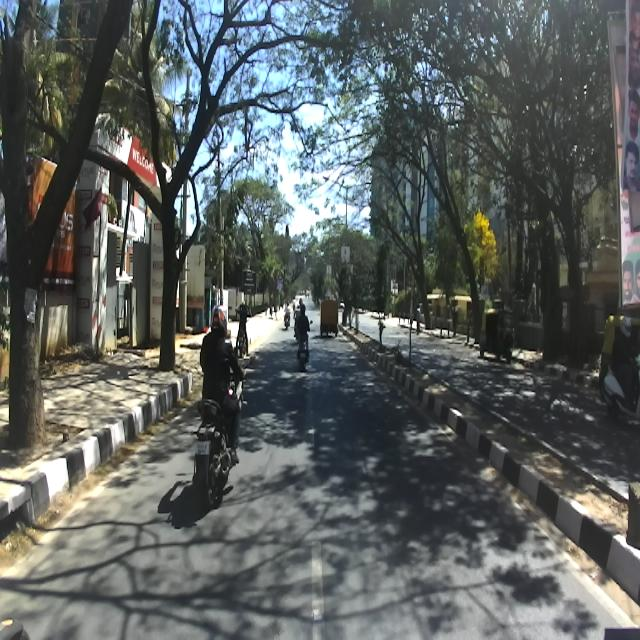motorcycle ahead at: (186, 394, 246, 513)
tree ahead at: (127, 0, 259, 372)
